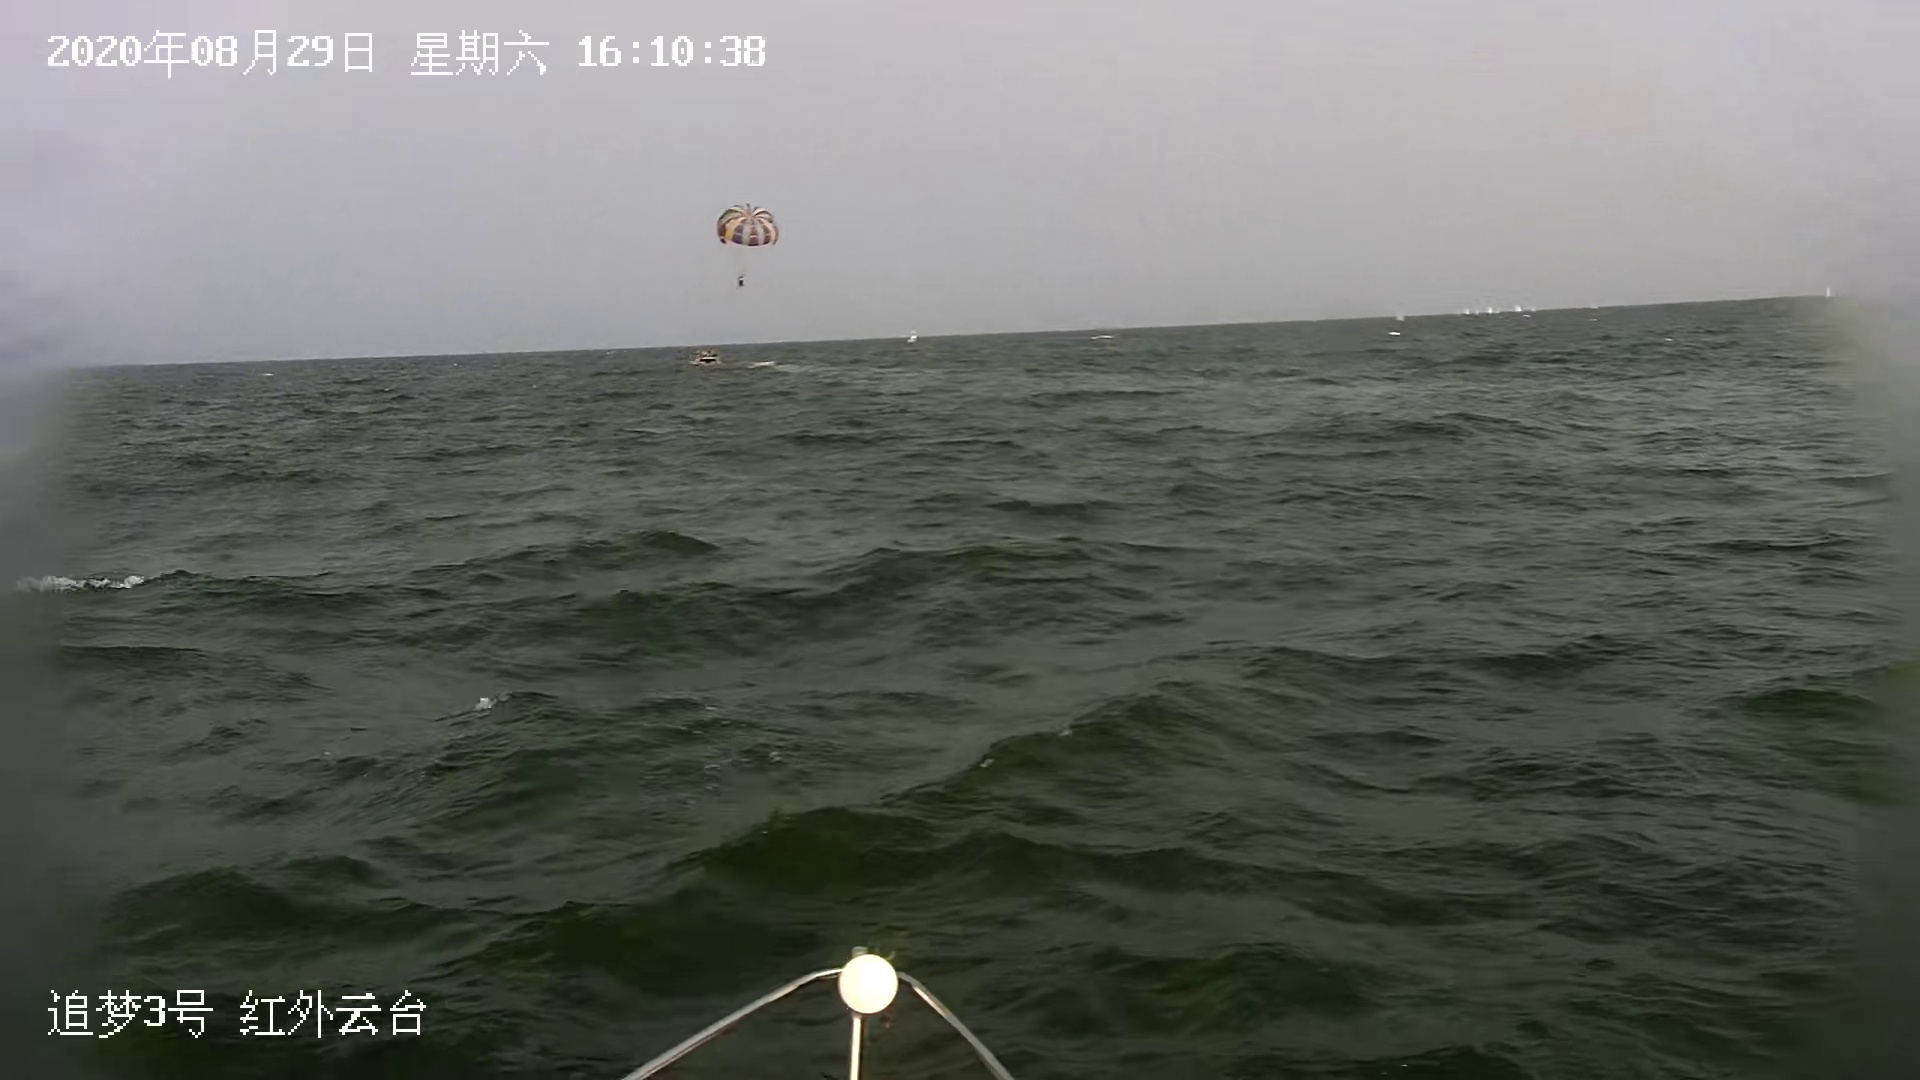barrier: (682, 348, 721, 368), (909, 327, 923, 348), (1462, 309, 1482, 318), (1385, 328, 1402, 339), (1822, 286, 1834, 299), (1395, 311, 1406, 324), (1515, 305, 1523, 313), (1487, 309, 1495, 314)
